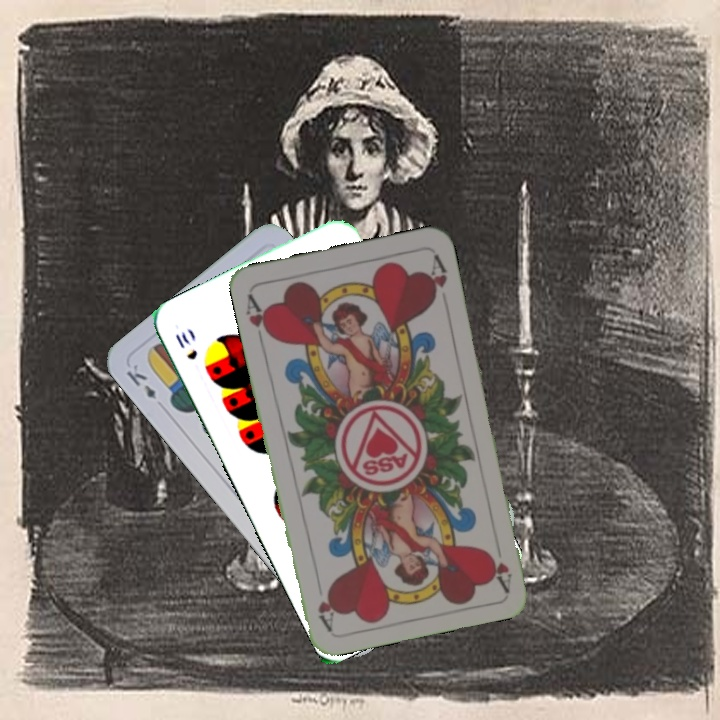EK: (121, 360, 168, 412)
HA: (242, 290, 275, 348), (484, 533, 515, 593)
S10: (171, 327, 200, 363)
